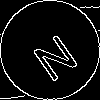N: (25, 25, 81, 83)
